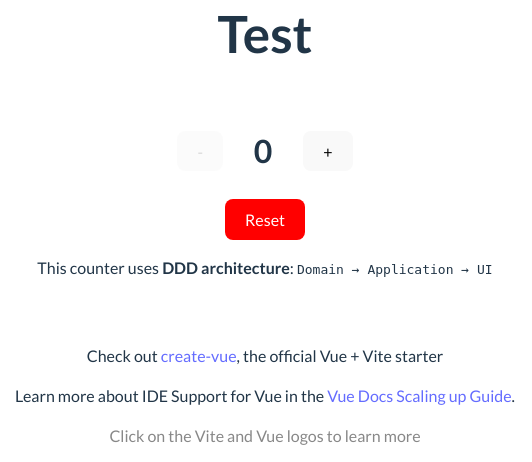
Test: HelloWorld › increments count when + button is clicked
Click the button "+" at (328, 151), box top-left (303, 131), bottom-right (353, 172)
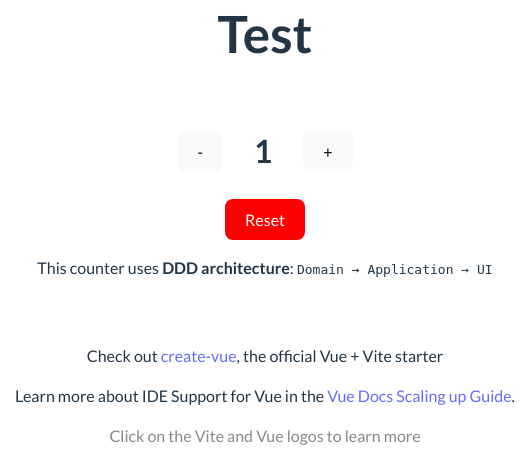
Expected: the text with class "counter-display" reads "1", top-left (254, 131), bottom-right (272, 170)
Click the button "+" at (328, 151), box top-left (303, 131), bottom-right (353, 172)
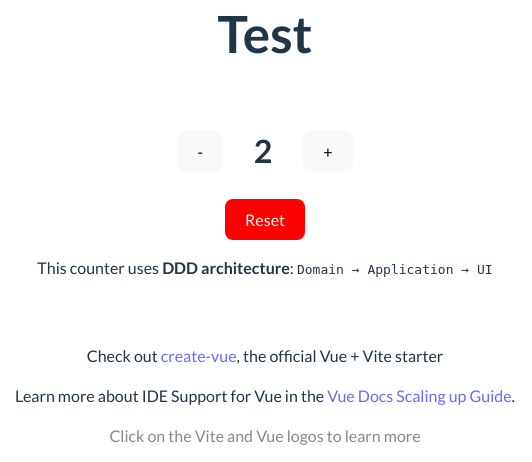
Expected: the text with class "counter-display" reads "2", top-left (254, 131), bottom-right (272, 170)
